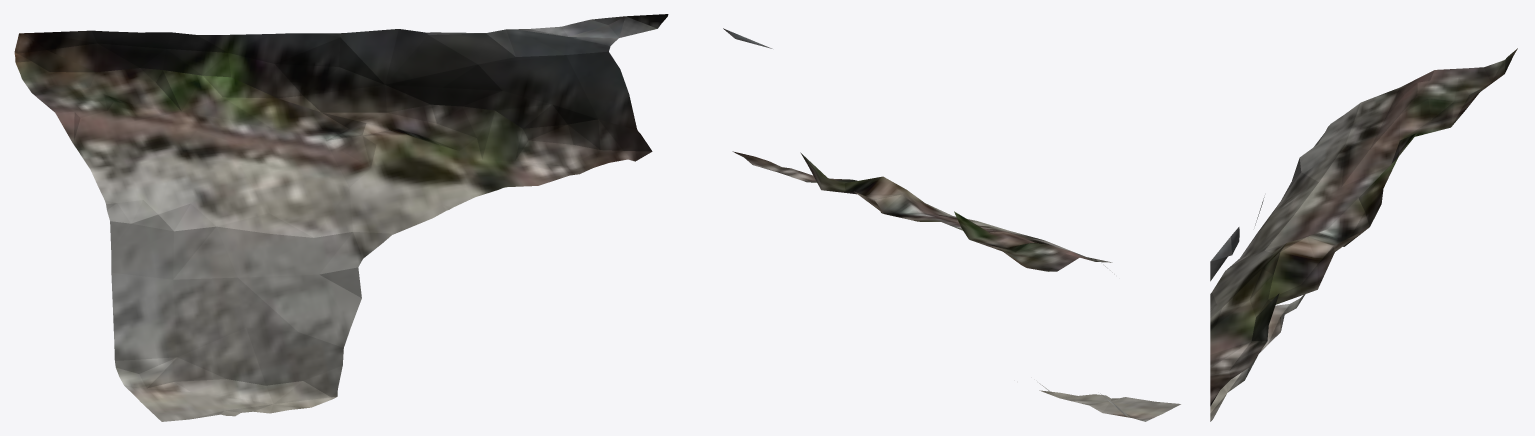
3 views of the same model, side by side, from view 1: azimuth 30°, elevation 25°; view 2: azimuth 150°, elevation 25°; view 3: azimuth 270°, elevation 25° (orthographic). The views are drawn at different scales.
Bounding box in the file's own units: 0.5112 × 0.2955 × 0.2575.
1 material, 1 textured.
